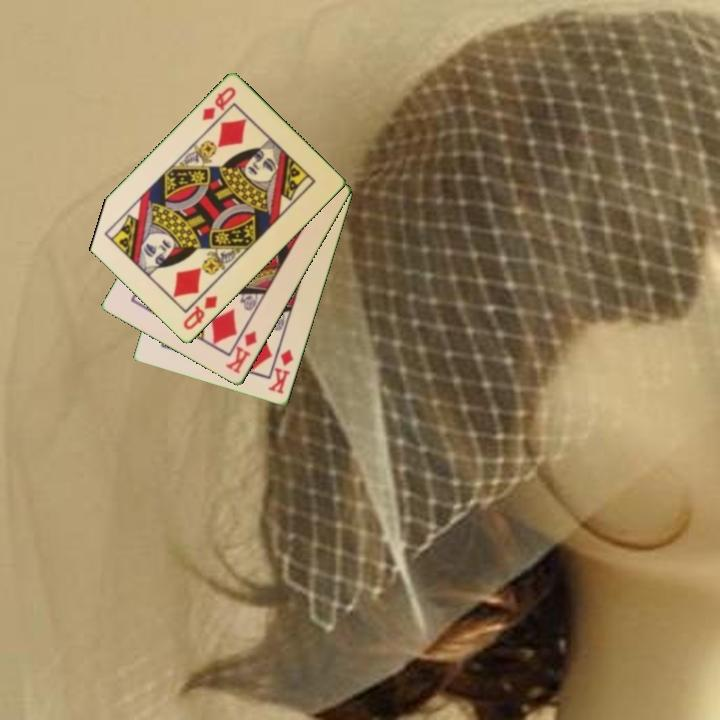Kd: (222, 327, 260, 377), (265, 346, 296, 397)
Qd: (179, 292, 221, 333), (198, 84, 239, 124)
